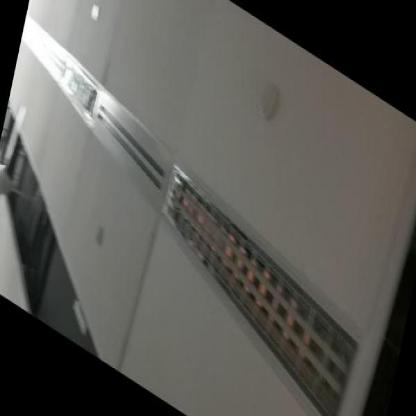light_off: (139, 150, 384, 415), (50, 45, 108, 139)
